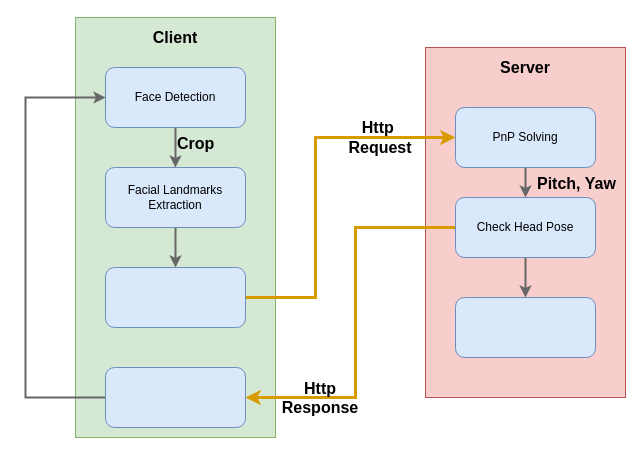
This 643x455 diagram has some shape labels left out. The shapes that lost their labels are listed below. From the top down, each one's box as (x1, y1, x2, y2) in pixels, then its label:
(104, 266, 246, 328): Facial Expression Extraction
(454, 296, 596, 358): Store Expression Changes
(104, 366, 246, 428): Pause or Resume Video Playing
